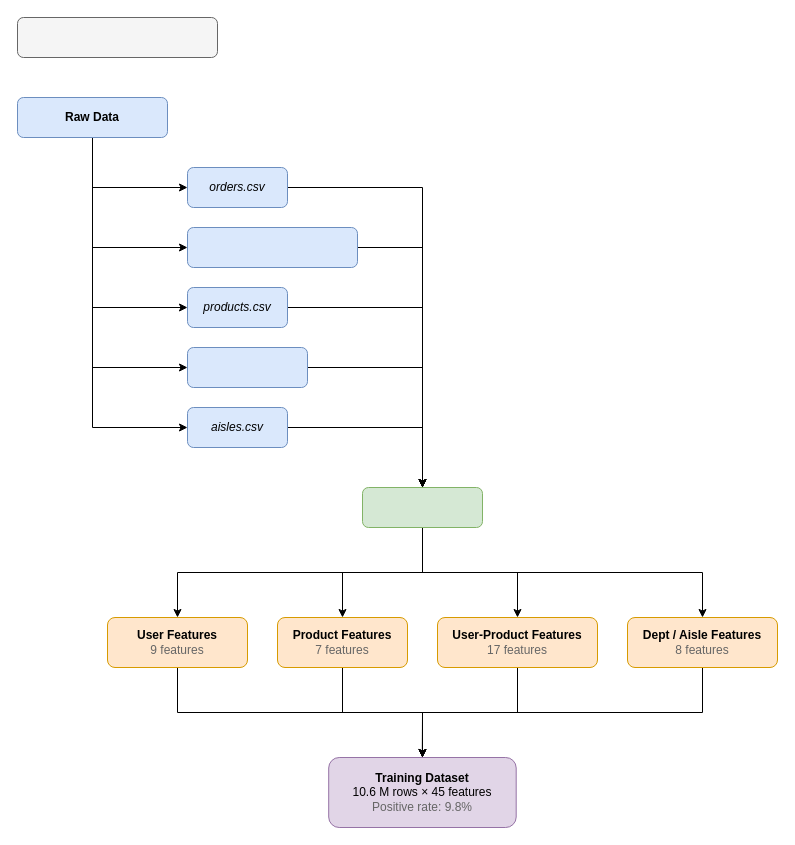
The diagram is 795 pixels wide and 845 high, and some of its shapes have lost their labels. The shapes that lost their labels are listed below. From the top down, each one's centre as x and y in pixels, then its label:
point 117,37: Data Pipeline
point 272,247: order_products__prior.csv
point 247,367: departments.csv
point 422,507: Preprocessing
